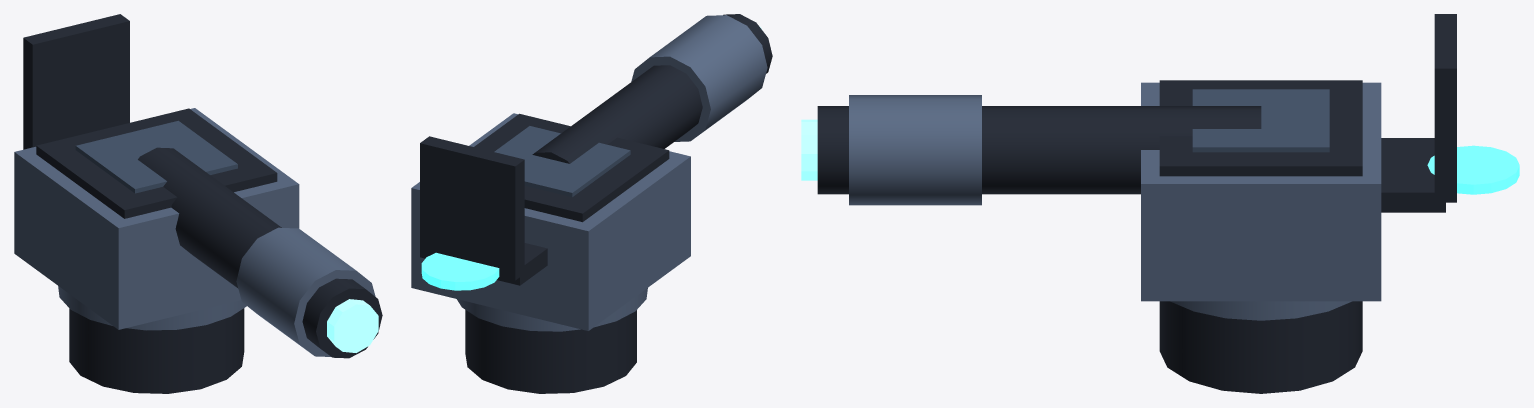
File: mod_canon_ligero.fbx
3 renders of one model, left to right at view 1: azimuth 30°, elevation 25°; view 2: azimuth 150°, elevation 25°; view 3: azimuth 270°, elevation 25°, orthographic. The views are drawn at different scales.
Parts seen in each view (by area): view 1: Canon_ligero, Canon_ligero_Neon; view 2: Canon_ligero, Canon_ligero_Marca; view 3: Canon_ligero, Canon_ligero_Marca, Canon_ligero_Neon.
Boxes of the visible parts, x1,y1,x2,y2 form: Canon_ligero: [14, 14, 382, 393]; Canon_ligero_Neon: [327, 299, 378, 352]; Canon_ligero: [411, 14, 772, 393]; Canon_ligero_Marca: [421, 252, 499, 290]; Canon_ligero: [817, 14, 1456, 393]; Canon_ligero_Marca: [1427, 145, 1519, 194]; Canon_ligero_Neon: [801, 119, 817, 180].
Size of the model in its own units: 0.364 by 0.5432 by 1.09.
